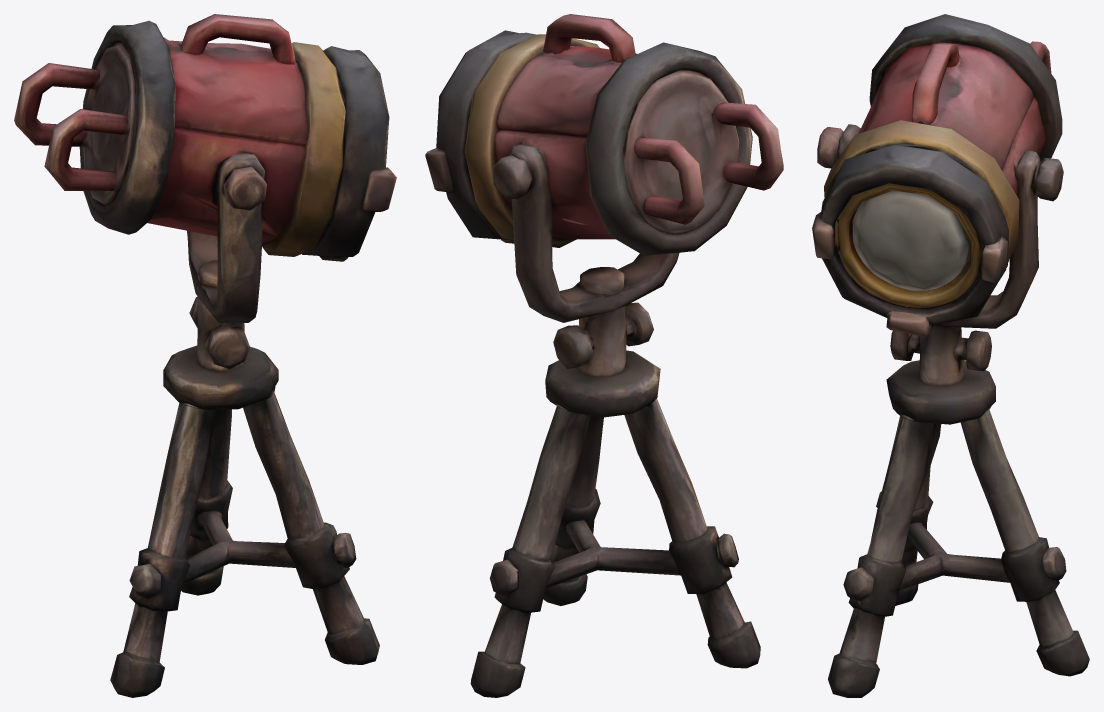
The model's file is spotisik.glb.
The picture shows the model from 3 angles, left to right: view 1: azimuth 30°, elevation 25°; view 2: azimuth 150°, elevation 25°; view 3: azimuth 270°, elevation 25°; orthographic projection. The views are drawn at different scales.
Visible parts, largest first — view 1: tripo_node_f50d5218-f440-4fc8-8403-216fe3a8c2a6; view 2: tripo_node_f50d5218-f440-4fc8-8403-216fe3a8c2a6; view 3: tripo_node_f50d5218-f440-4fc8-8403-216fe3a8c2a6.
Boxes of the visible parts, left/top/right/bottom form: tripo_node_f50d5218-f440-4fc8-8403-216fe3a8c2a6: left=14, top=14, right=396, bottom=697; tripo_node_f50d5218-f440-4fc8-8403-216fe3a8c2a6: left=425, top=14, right=783, bottom=697; tripo_node_f50d5218-f440-4fc8-8403-216fe3a8c2a6: left=812, top=14, right=1089, bottom=697.
Size of the model in its own units: 0.5255 by 0.9765 by 0.407.
1 material, 1 textured.
